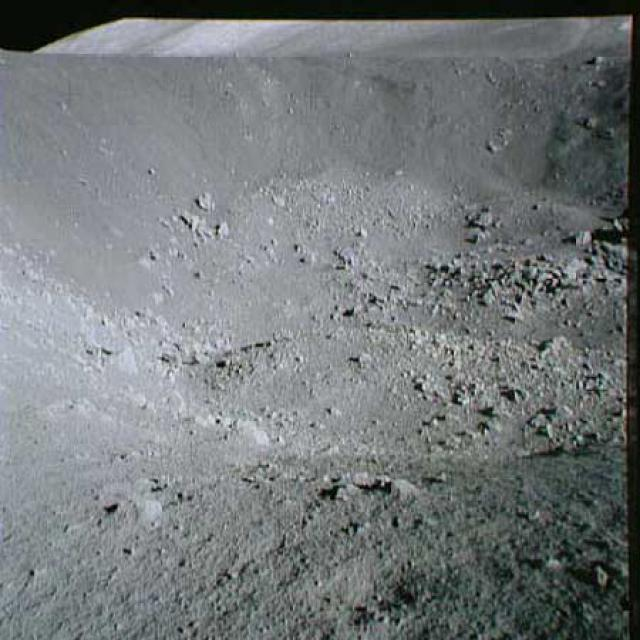rock: (417, 242, 617, 321), (343, 462, 414, 510), (169, 207, 231, 242), (458, 223, 495, 245), (194, 185, 223, 211), (467, 204, 498, 224)
